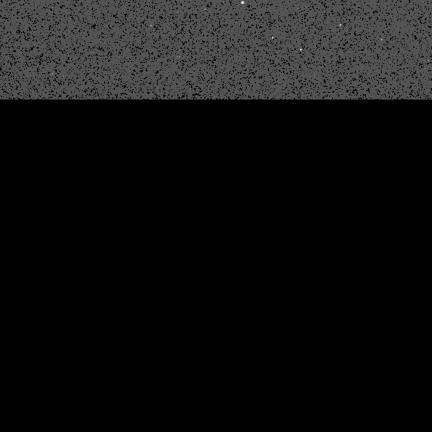blob: (241, 1, 245, 5)
